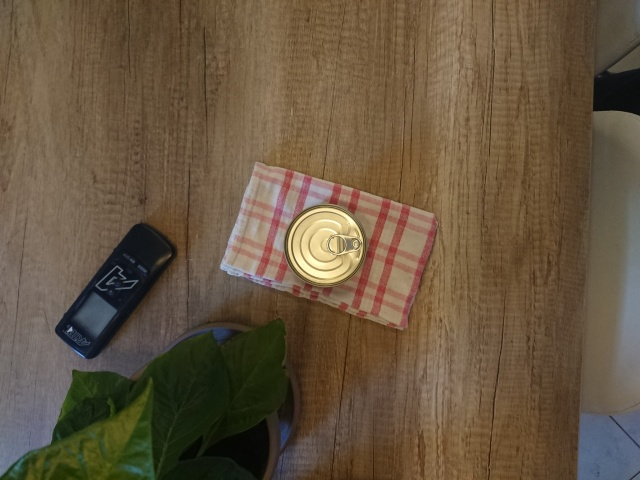Giana Tuna Salad Mexico 185g: (282, 201, 369, 290)
